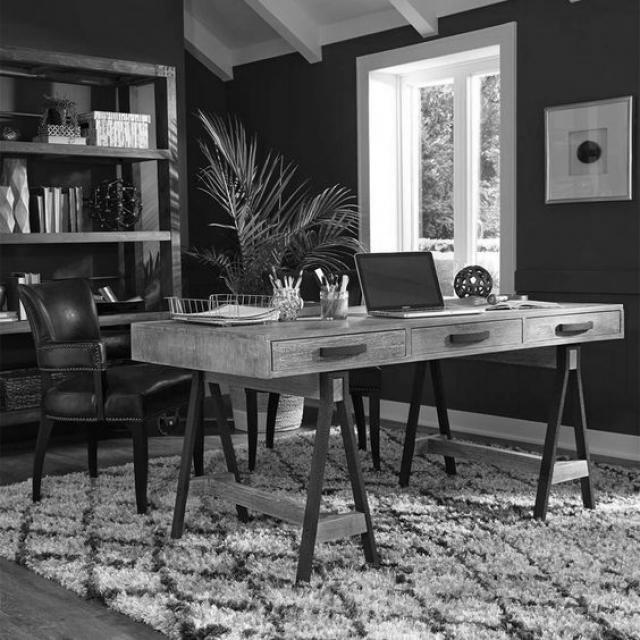table: (116, 279, 640, 384)
